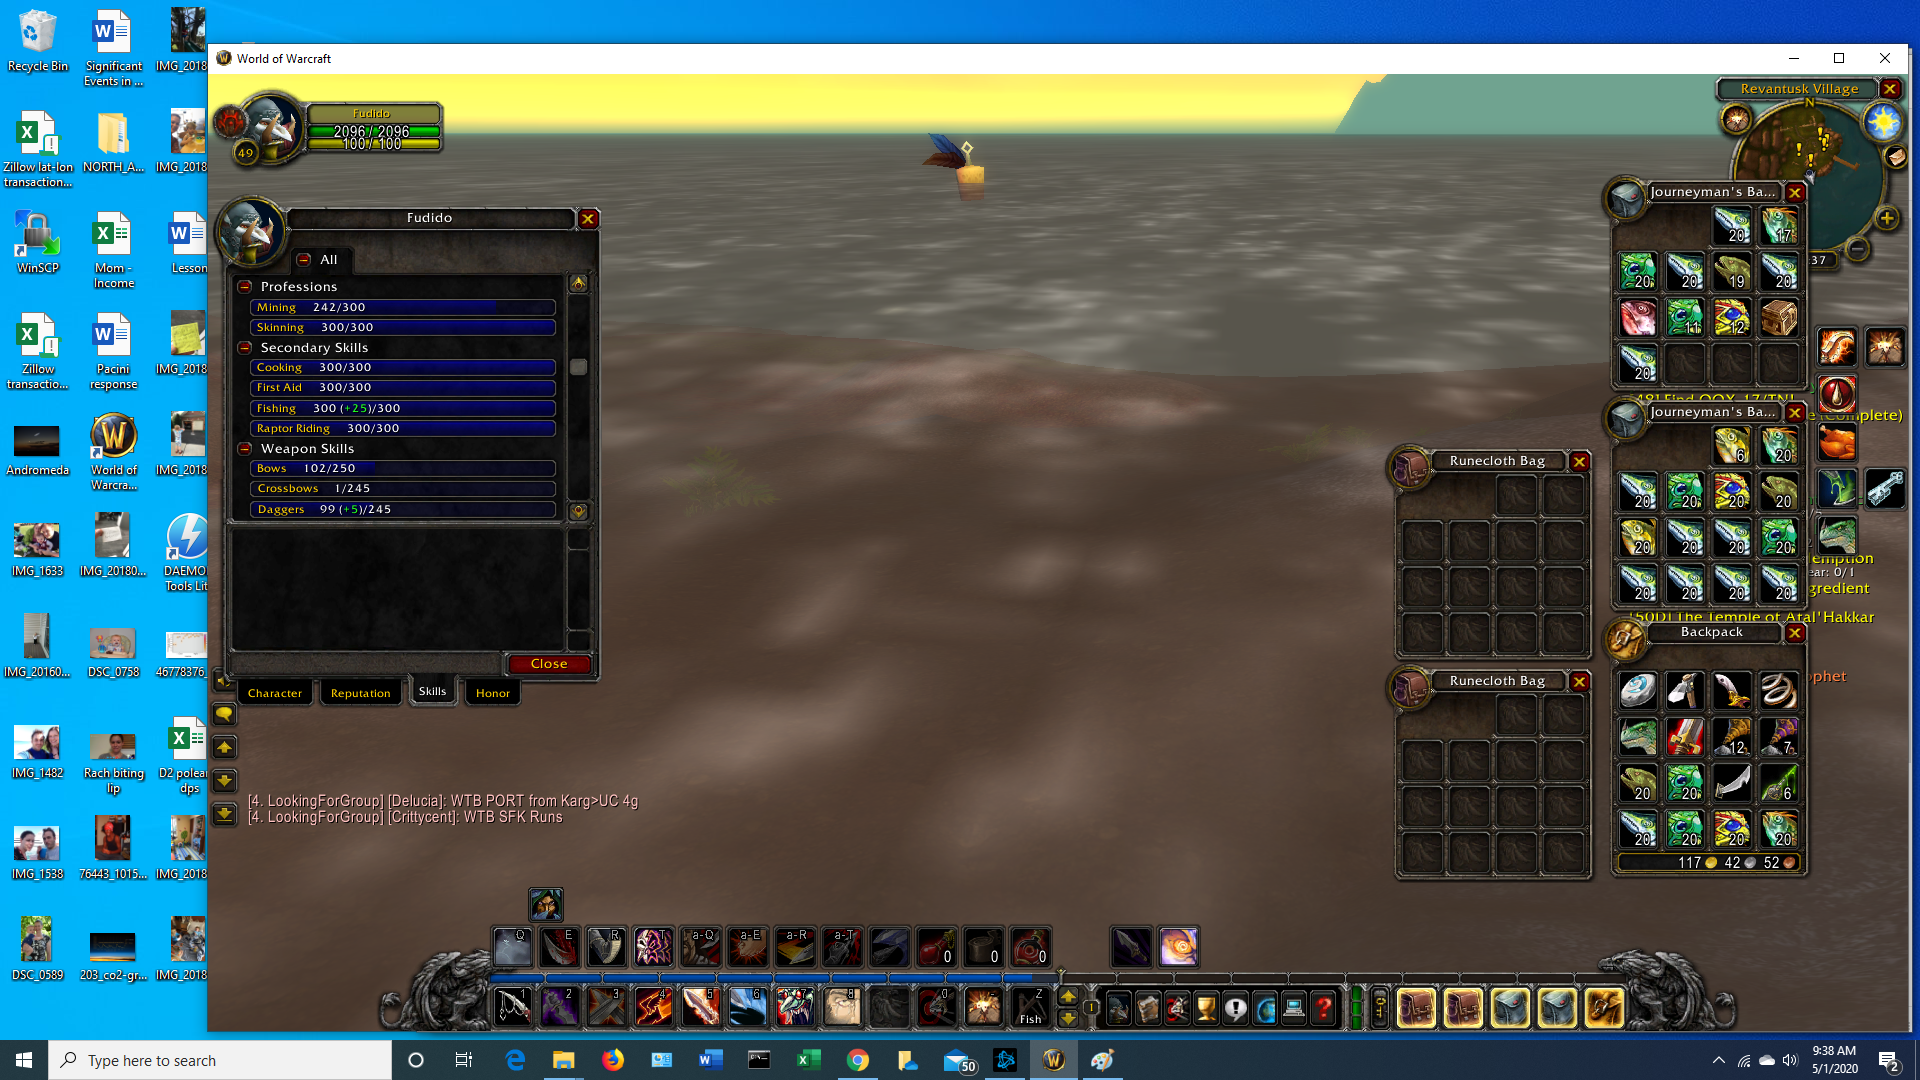bobble: (920, 127, 996, 208)
